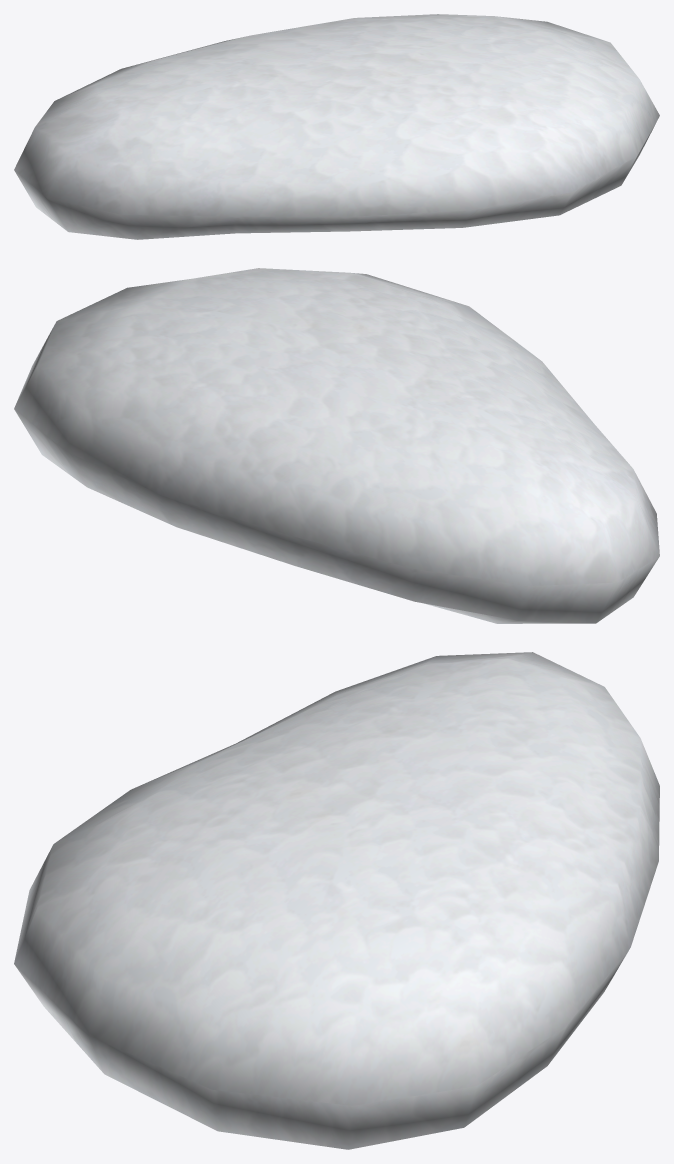
Rendered from snow06.fbx.
The picture shows the model from 3 angles, top to bottom: view 1: azimuth 30°, elevation 25°; view 2: azimuth 150°, elevation 25°; view 3: azimuth 270°, elevation 25°; orthographic projection. The views are drawn at different scales.
Visible parts, largest first — view 1: snow06; view 2: snow06; view 3: snow06.
Part boxes in pixels (x1,y1,x2,y2): snow06: [14, 14, 659, 239]; snow06: [14, 268, 659, 623]; snow06: [14, 652, 659, 1149].
Bounding box in the file's own units: 171 × 42.5 × 114.
